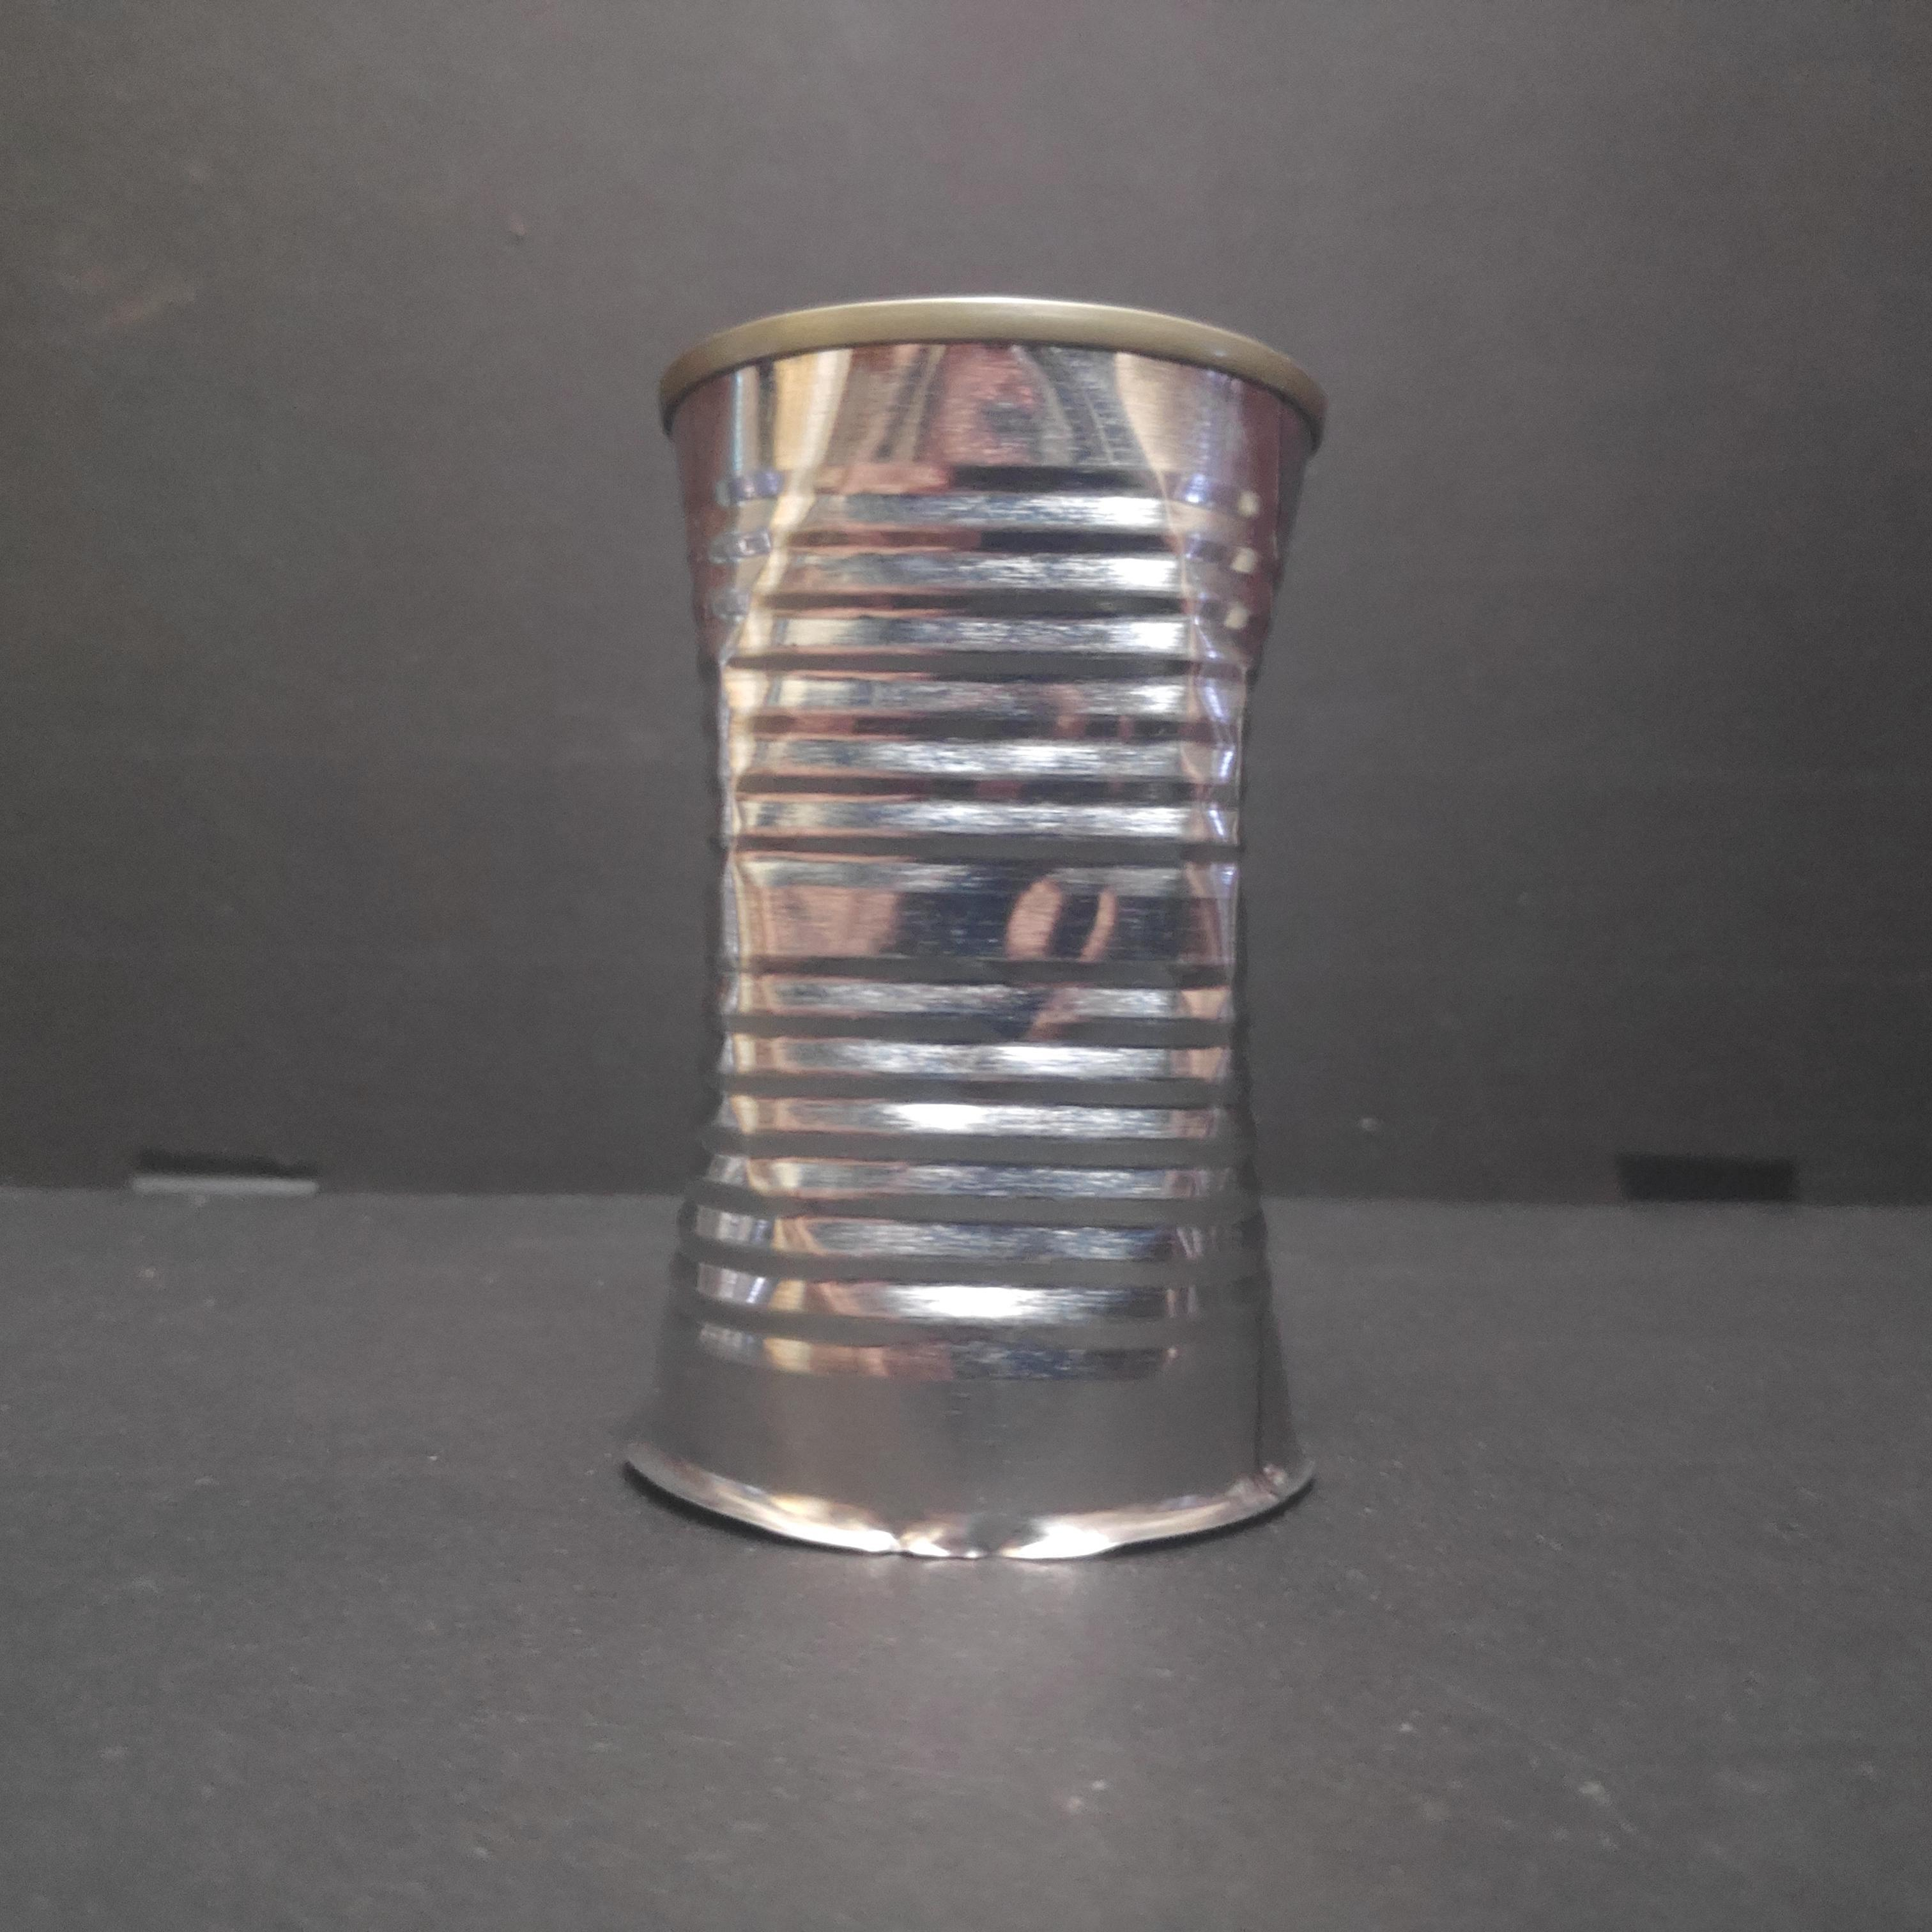Dented: (646, 290, 1329, 1569)
